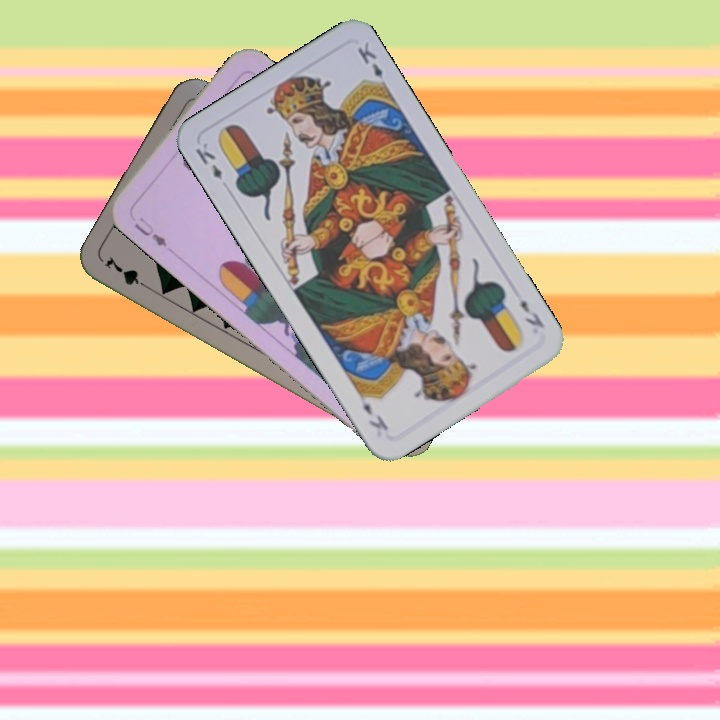EK: (191, 138, 225, 182), (516, 295, 547, 331)
EU: (130, 213, 170, 250)
G7: (100, 252, 155, 293)
